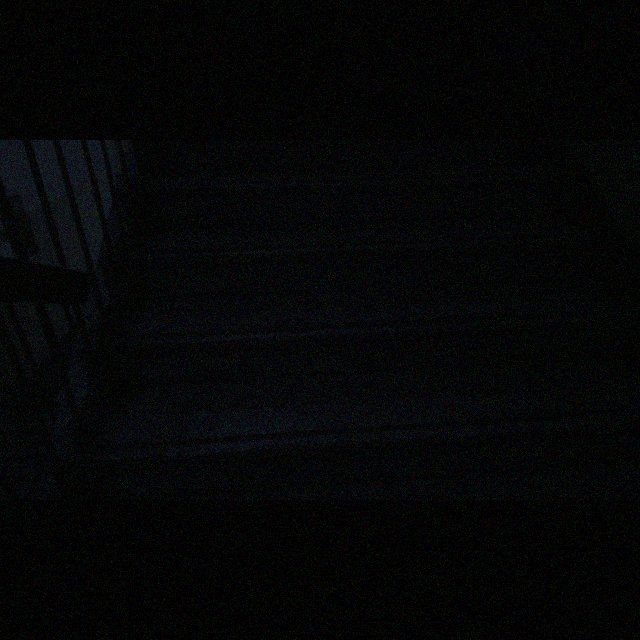stair: (59, 139, 639, 499)
